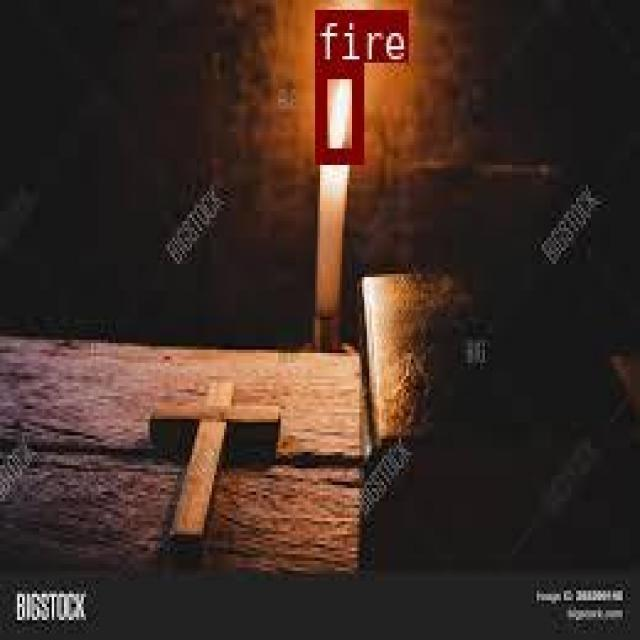fire: (313, 61, 360, 161)
